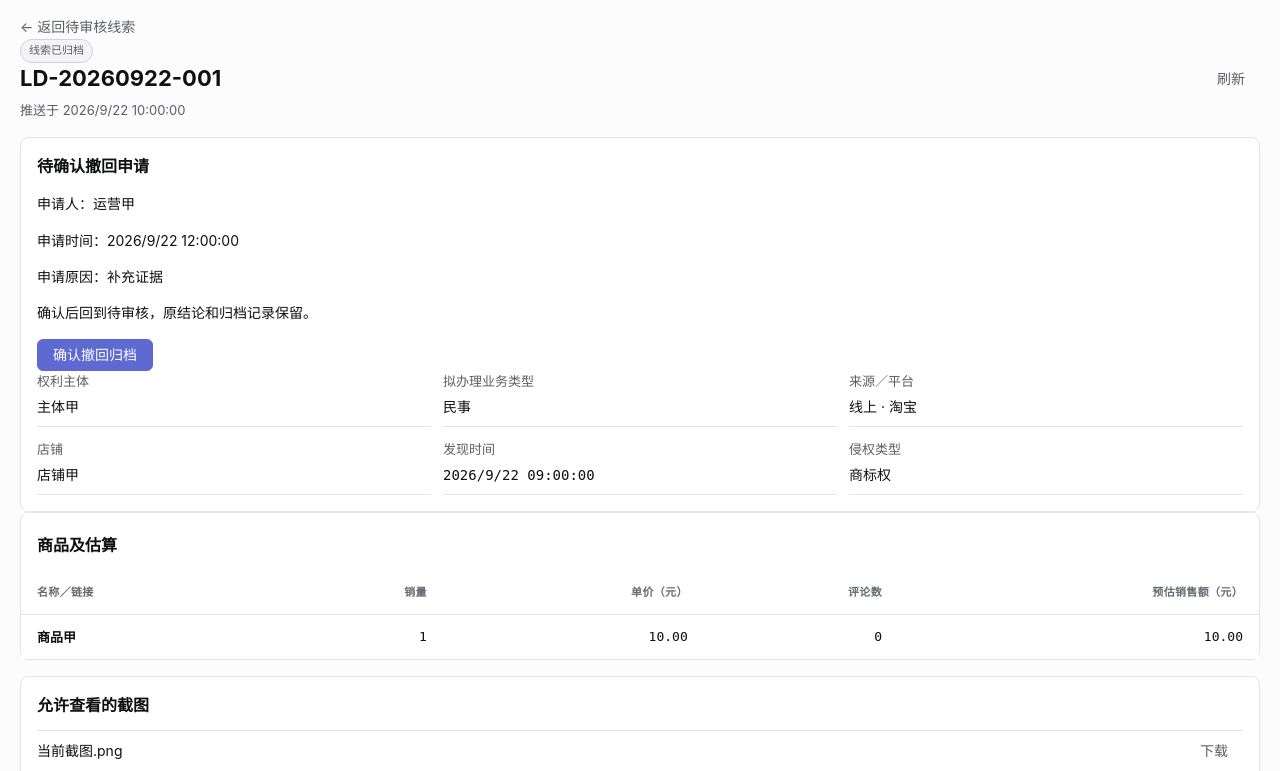
Scenario: ClientLeadDetailPage › confirms the application and reloads into the normal second review
Click the button with test id "confirm-withdrawal": (95, 355) [37,339,153,371]
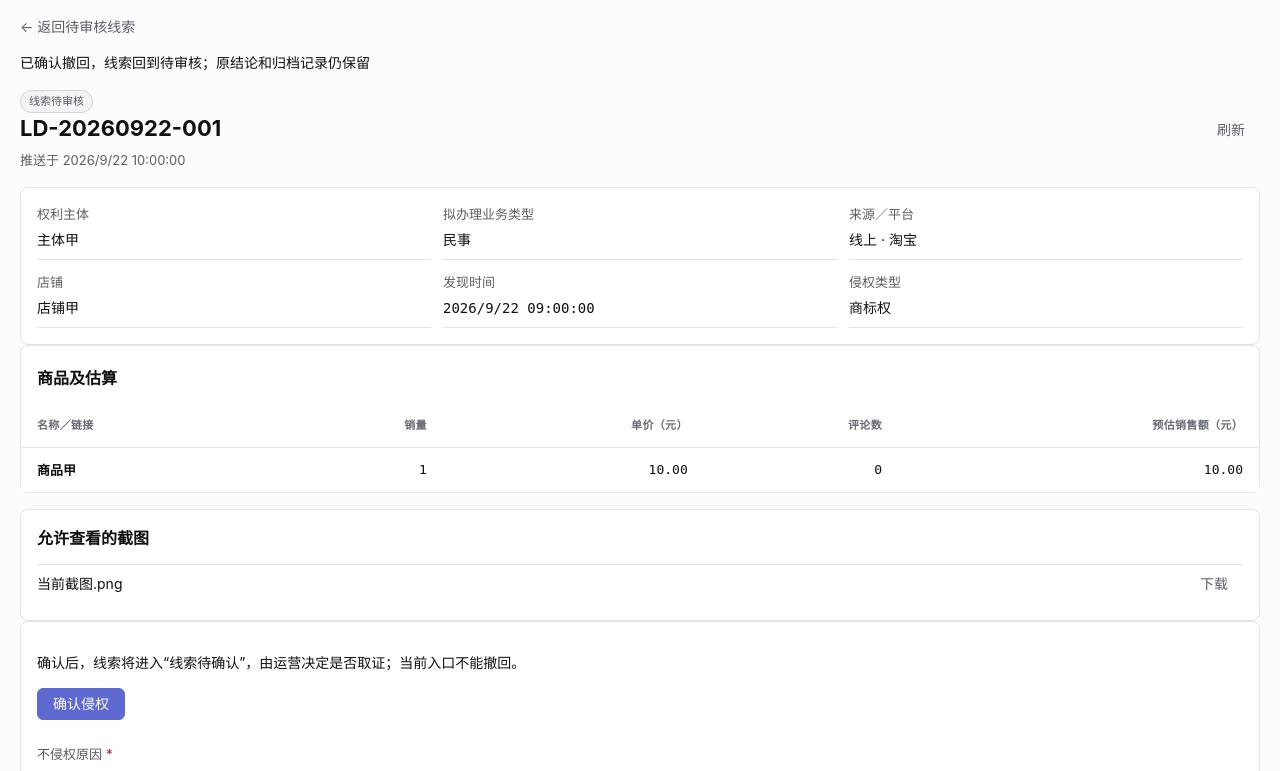
Expected: the button with test id "confirm-infringement" is shown, [37,688,125,720]
